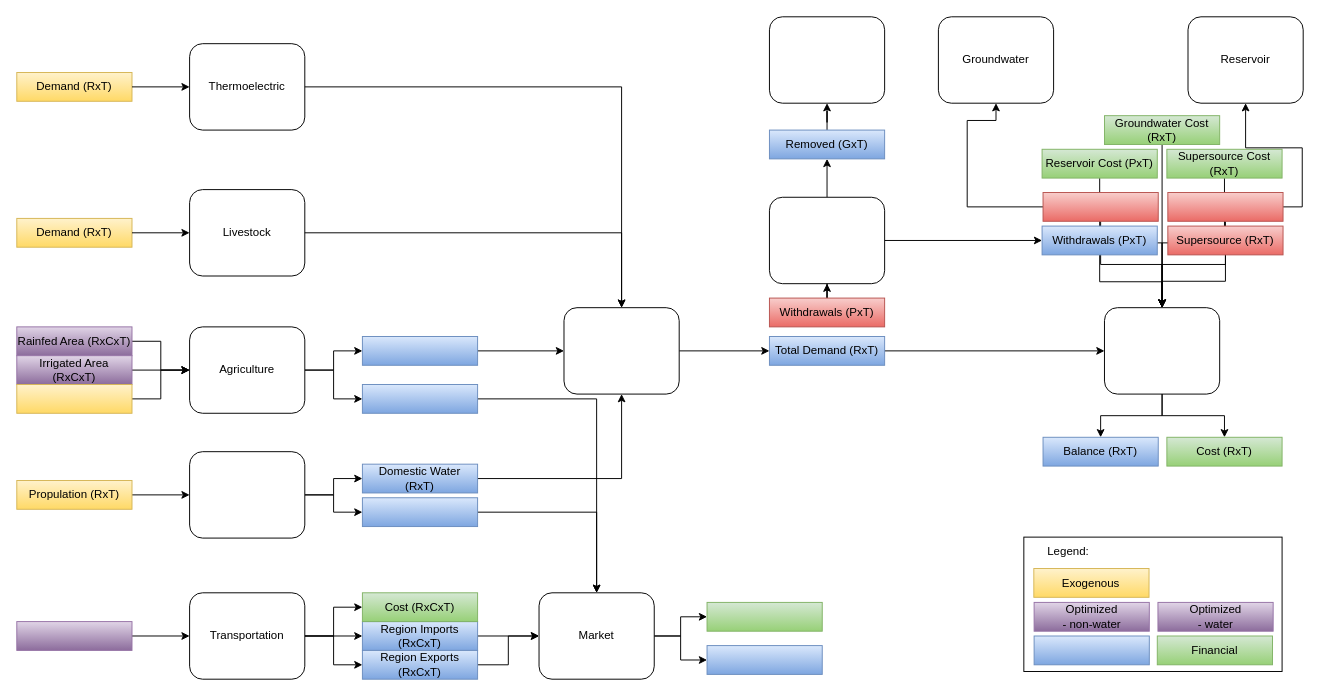
Some shapes in this 1327 by 696 pixel diagram are drawn without their labels. Here are the shapes that lost their labels. From the top down, the box of each, then its label:
(768, 16, 885, 103): Water Network
(1042, 192, 1158, 221): Groundwater (RxT)
(1167, 192, 1283, 221): Reservoir (RxT)
(768, 196, 885, 284): Return Flows
(361, 336, 478, 365): Irrigation (RxT)
(563, 307, 679, 394): Water Demand
(1104, 307, 1220, 394): Allocation
(16, 384, 132, 413): Precipitation (RxT)
(361, 384, 478, 413): Production (RxCxT)
(189, 451, 305, 538): Domestic Demand
(361, 497, 478, 527): Crop Interest (RxCxT)
(16, 621, 132, 650): Imports (ExCxT)
(706, 601, 822, 631): Revenues (RxCxT)
(706, 645, 822, 674): Domestic Balance (RxCxT)
(1033, 635, 1149, 665): Computed
